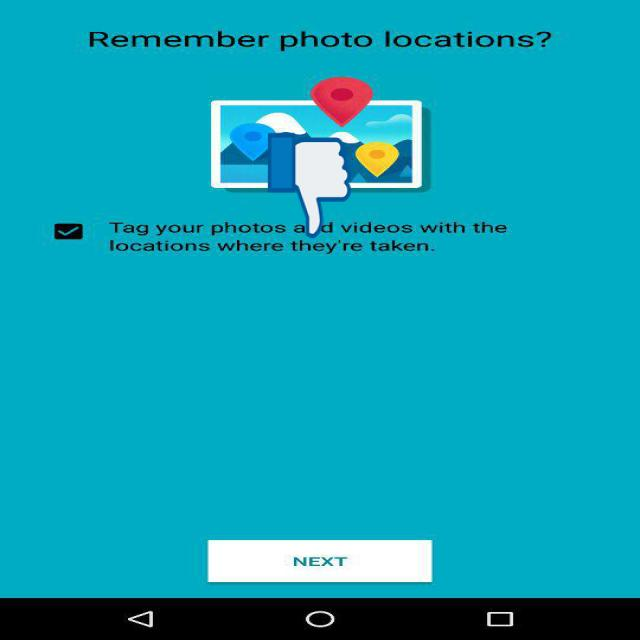obstruction: (268, 130, 351, 240)
